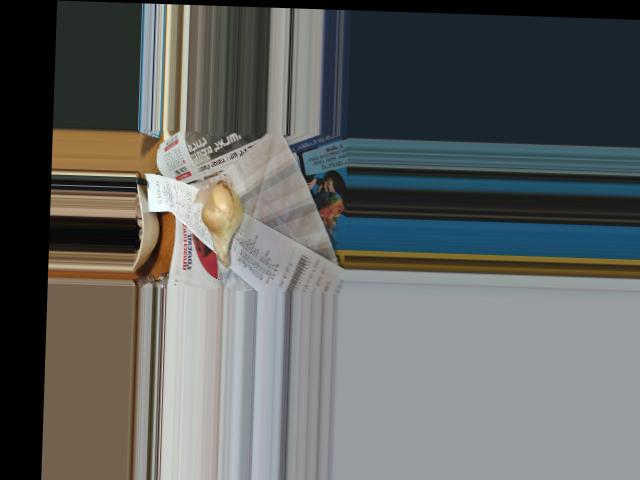onion: (199, 182, 246, 264)
